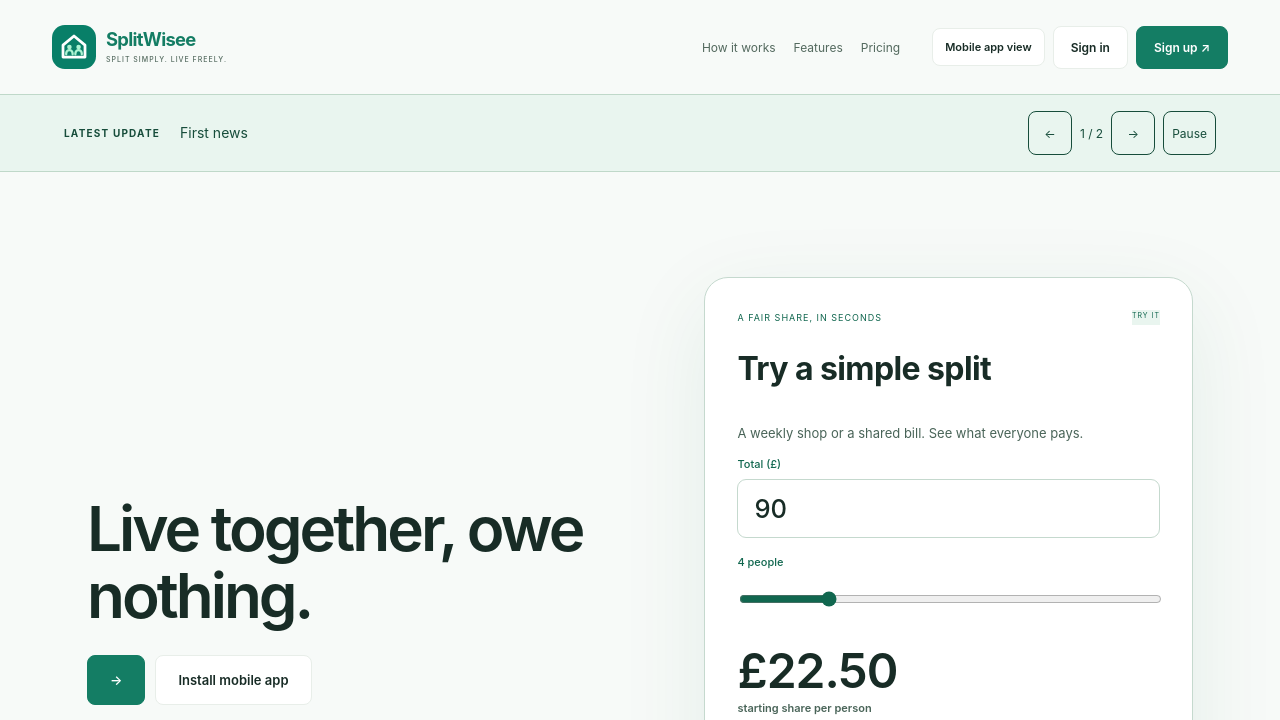
it: website › shows operator-managed copy and an accessible announcement carousel
Expected: the heading "Live together, owe nothing." is shown, [87,496,624,630]
Expected: the text "First news" is shown, [180,124,248,141]
Click the button named "Next announcement". click: click(1133, 133)
box: [1111,111,1155,155]
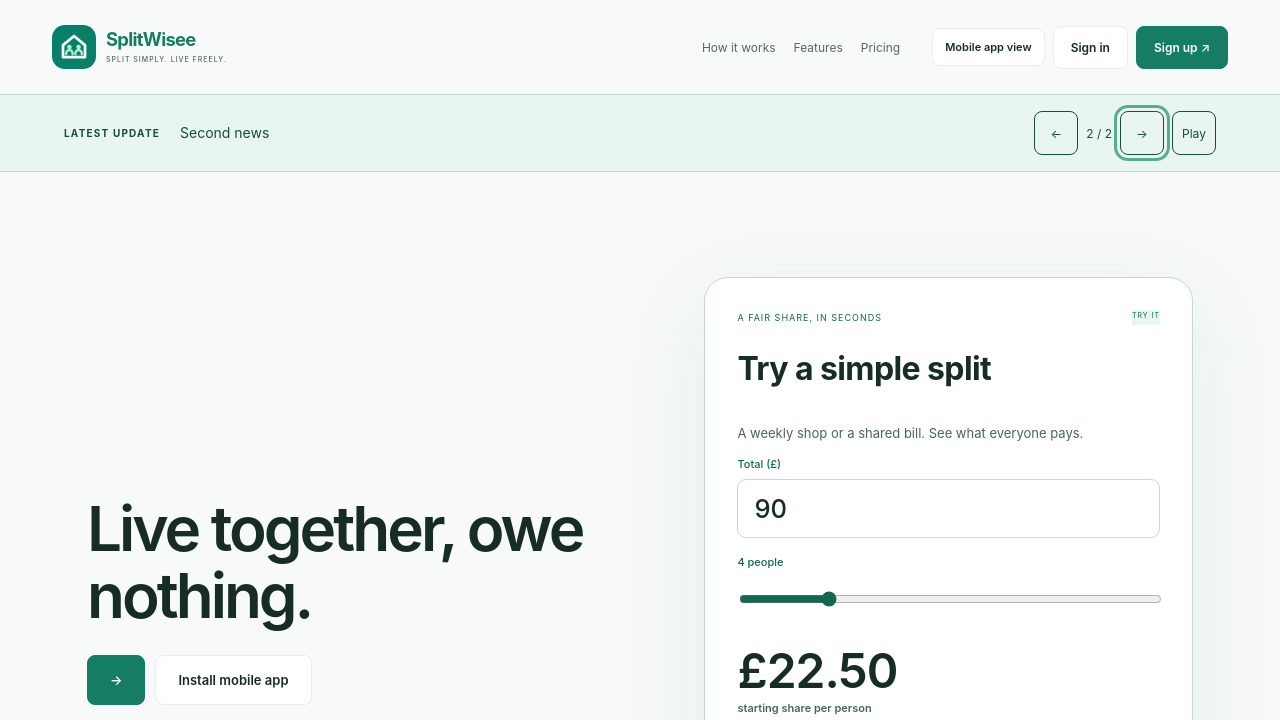
Expected: the text "Second news" is shown, [180,124,269,141]
Expected: the text "2 / 2" is shown, [1086,126,1112,140]
